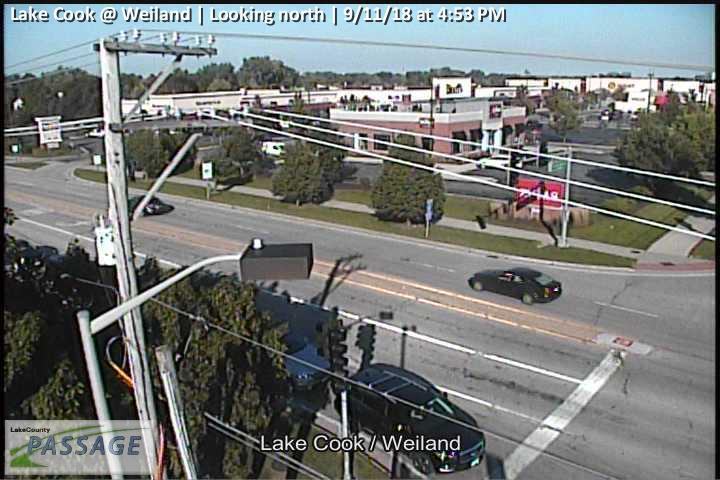SUV: (338, 362, 485, 474)
Sedan: (472, 266, 562, 305)
